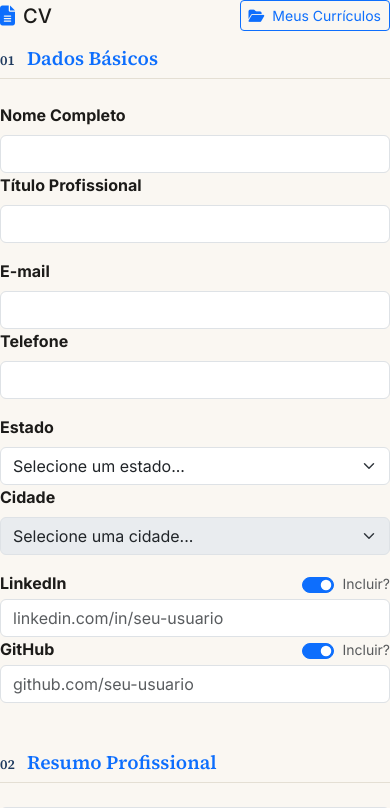
Test: ResumeWorkspace › abre o painel de currículos ao clicar no botão
Click the button "Meus Currículos" at (315, 16), box [240,0,389,31]
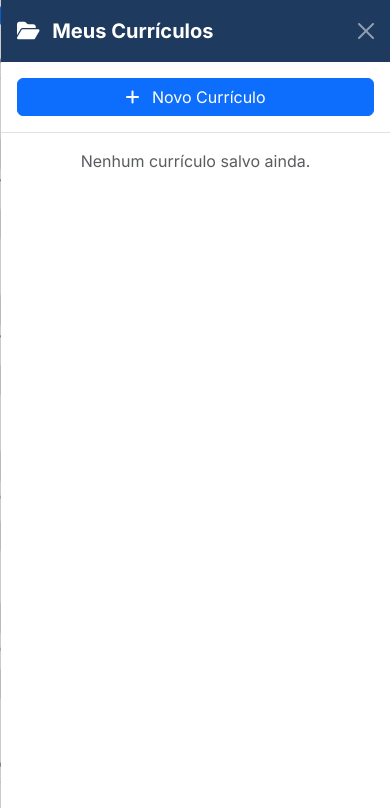
Result: the button "Novo Currículo" is shown at [17,78,374,116]
